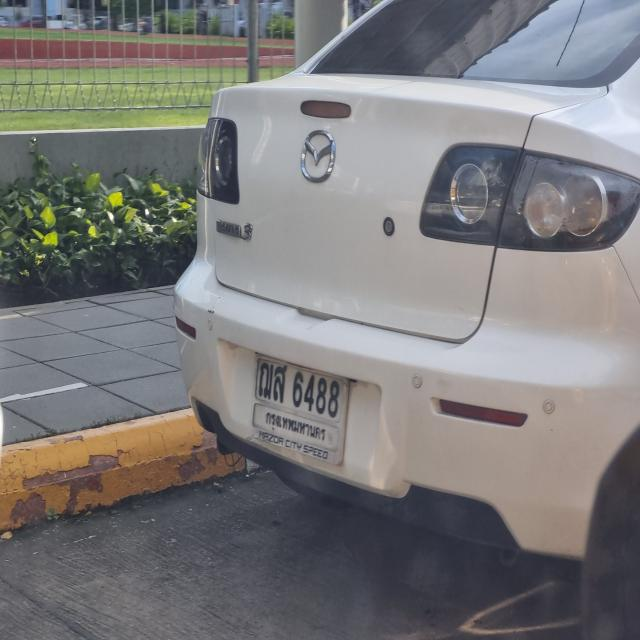license_plate: (251, 348, 351, 462)
